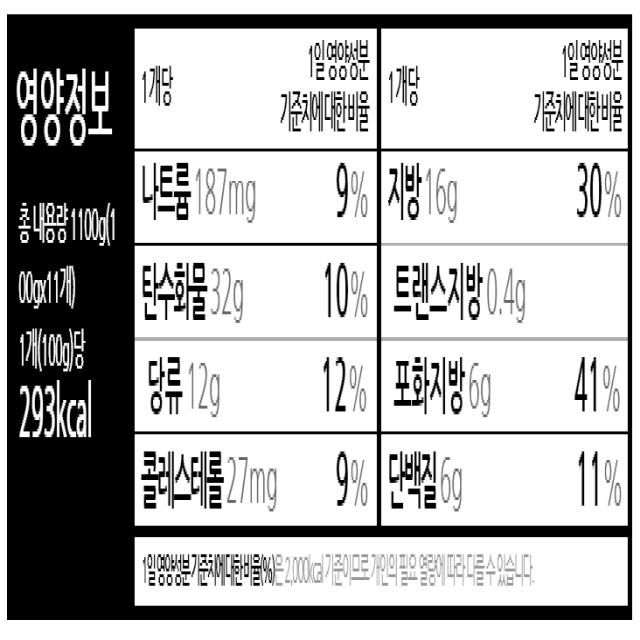Nutrition Label: (4, 6, 636, 626)
